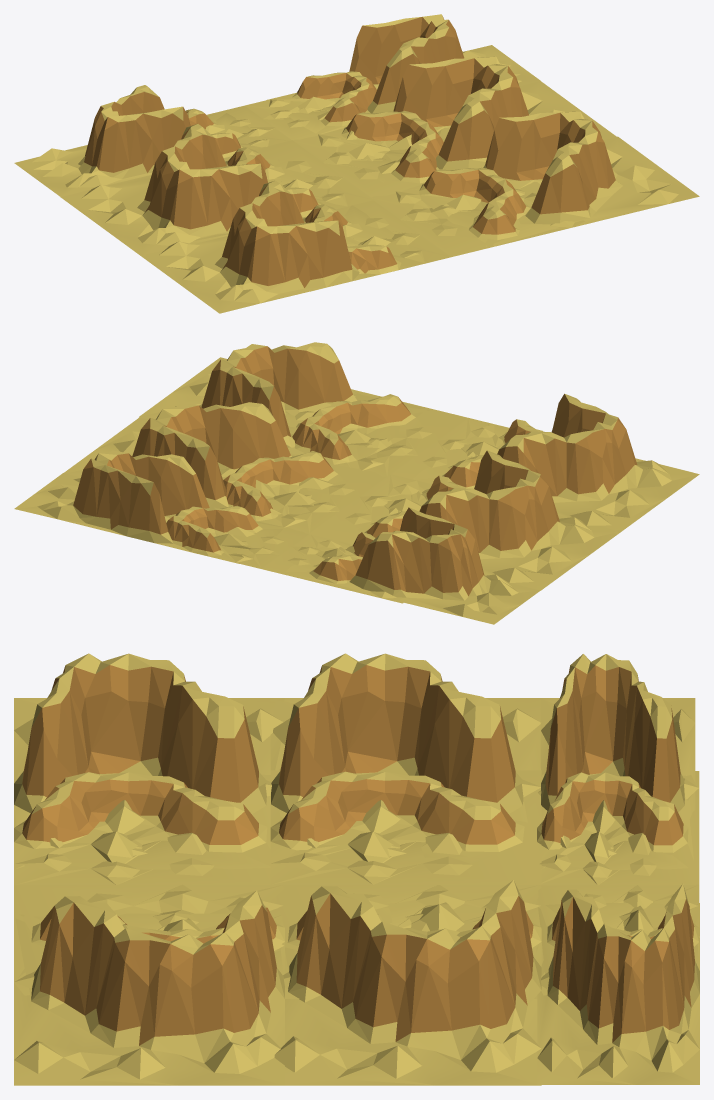
The model's file is newTerrian.fbx.
3 renders of one model, top to bottom at view 1: azimuth 30°, elevation 25°; view 2: azimuth 150°, elevation 25°; view 3: azimuth 270°, elevation 25°, orthographic. The views are drawn at different scales.
Visible parts, largest first — view 1: Terrain_1__9_, Terrain_1__11_, Terrain_1__7_, Terrain_1__5_, Terrain_1__3_, Terrain_1__8_, Terrain_1__2_, Terrain_1__4_, Terrain_1, Terrain_1__6_, Terrain_1__10_, Terrain_1__1_; view 2: Terrain_1__11_, Terrain_1__7_, Terrain_1__3_, Terrain_1__2_, Terrain_1__5_, Terrain_1__9_, Terrain_1__8_, Terrain_1__4_, Terrain_1, Terrain_1__6_, Terrain_1__10_, Terrain_1__1_; view 3: Terrain_1__5_, Terrain_1__9_, Terrain_1__11_, Terrain_1__7_, Terrain_1__2_, Terrain_1__6_, Terrain_1__3_, Terrain_1__10_, Terrain_1__1_, Terrain_1__8_, Terrain_1__4_, Terrain_1.
Boxes of the visible parts, x1,y1,x2,y2 form: Terrain_1__9_: (408, 111, 699, 246); Terrain_1__11_: (138, 180, 432, 313); Terrain_1__7_: (60, 124, 334, 256); Terrain_1__5_: (331, 56, 616, 182); Terrain_1__3_: (14, 85, 270, 196); Terrain_1__8_: (371, 167, 584, 256); Terrain_1__2_: (266, 14, 540, 134); Terrain_1__4_: (293, 110, 483, 197); Terrain_1: (244, 71, 376, 140); Terrain_1__6_: (151, 140, 373, 217); Terrain_1__10_: (303, 200, 451, 291); Terrain_1__1_: (186, 106, 291, 157); Terrain_1__11_: (412, 393, 699, 533); Terrain_1__7_: (355, 450, 621, 590); Terrain_1__3_: (286, 507, 539, 624); Terrain_1__2_: (14, 450, 282, 563); Terrain_1__5_: (64, 402, 349, 521); Terrain_1__9_: (139, 342, 429, 467); Terrain_1__8_: (285, 389, 467, 476); Terrain_1__4_: (220, 451, 386, 533); Terrain_1: (165, 505, 308, 568); Terrain_1__6_: (309, 474, 465, 544); Terrain_1__10_: (392, 417, 542, 488); Terrain_1__1_: (262, 532, 409, 603); Terrain_1__5_: (274, 880, 541, 1085); Terrain_1__9_: (14, 890, 284, 1085); Terrain_1__11_: (14, 653, 284, 869); Terrain_1__7_: (270, 653, 541, 868); Terrain_1__2_: (537, 884, 699, 1084); Terrain_1__6_: (270, 770, 541, 884); Terrain_1__3_: (540, 654, 695, 869); Terrain_1__10_: (14, 772, 271, 885); Terrain_1__1_: (537, 771, 699, 885); Terrain_1__8_: (14, 884, 284, 995); Terrain_1__4_: (272, 885, 541, 998); Terrain_1: (536, 884, 699, 999).
Bounding box in the file's own units: 6768 × 834 × 5060.
